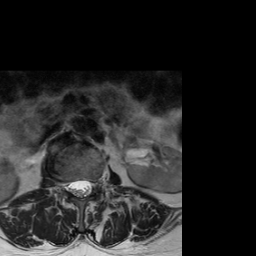CCS_normal: (76, 174, 84, 205)
LFS_normal: (92, 175, 101, 199)
LLS_normal: (84, 175, 91, 199)
RFS_normal: (60, 175, 69, 198)
RLS_normal: (68, 175, 76, 199)
